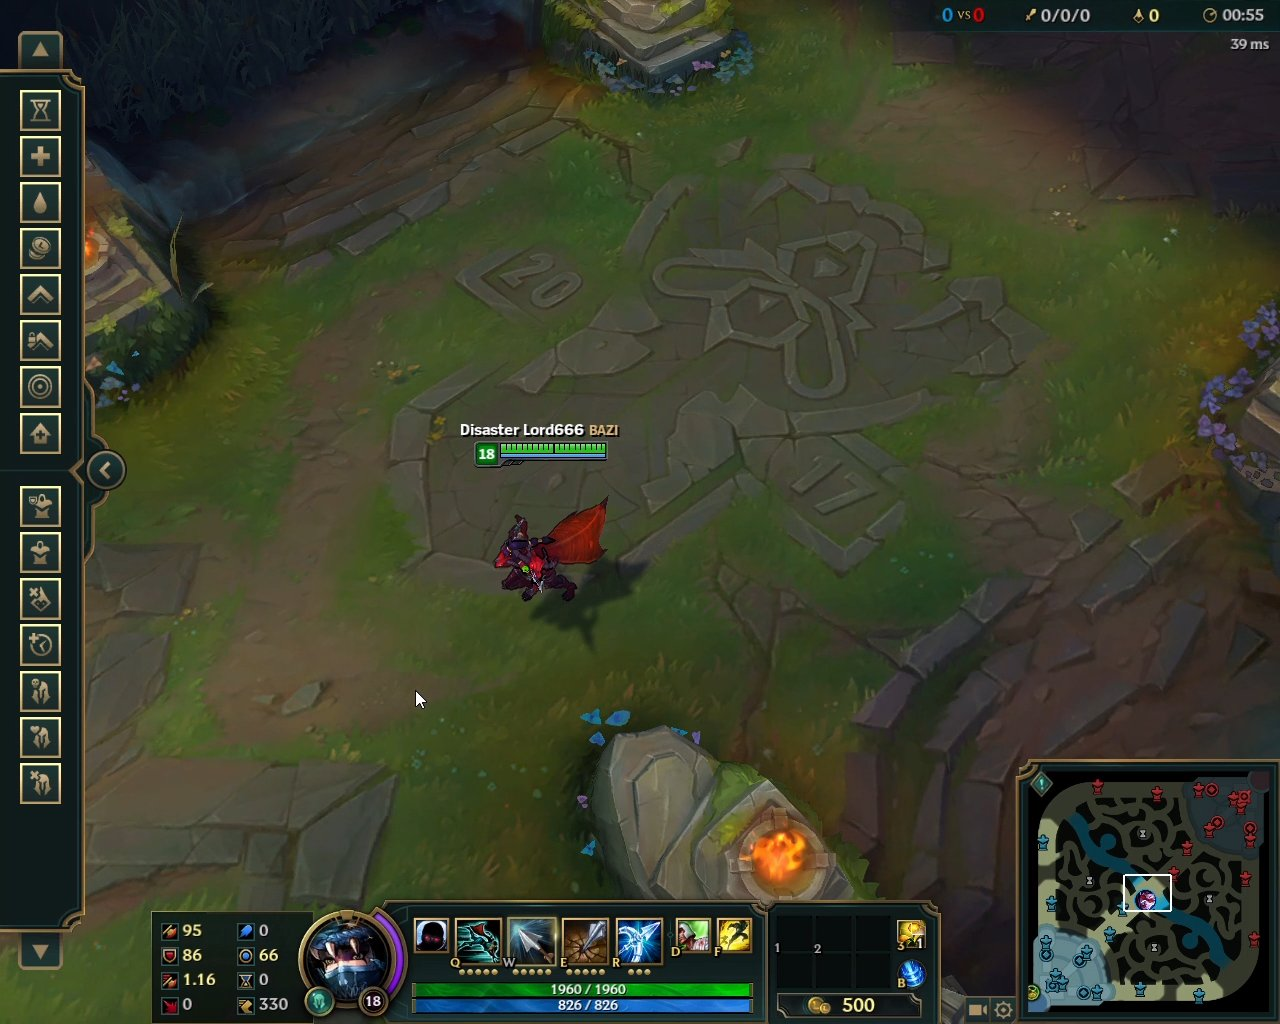Vayne: (483, 491, 624, 609)
